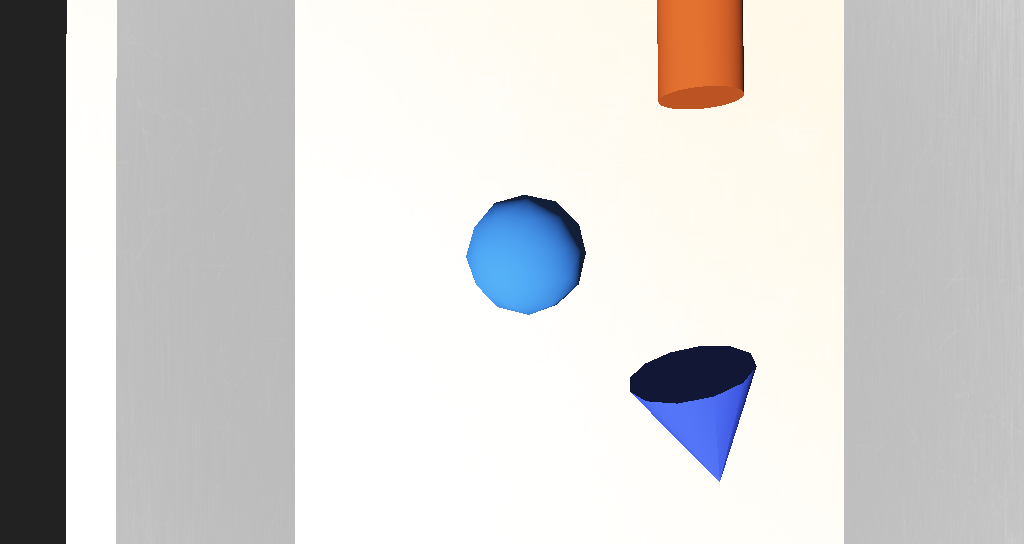cone: (546, 155, 600, 208)
cylinder: (536, 293, 623, 365)
sphere: (445, 241, 512, 284)
